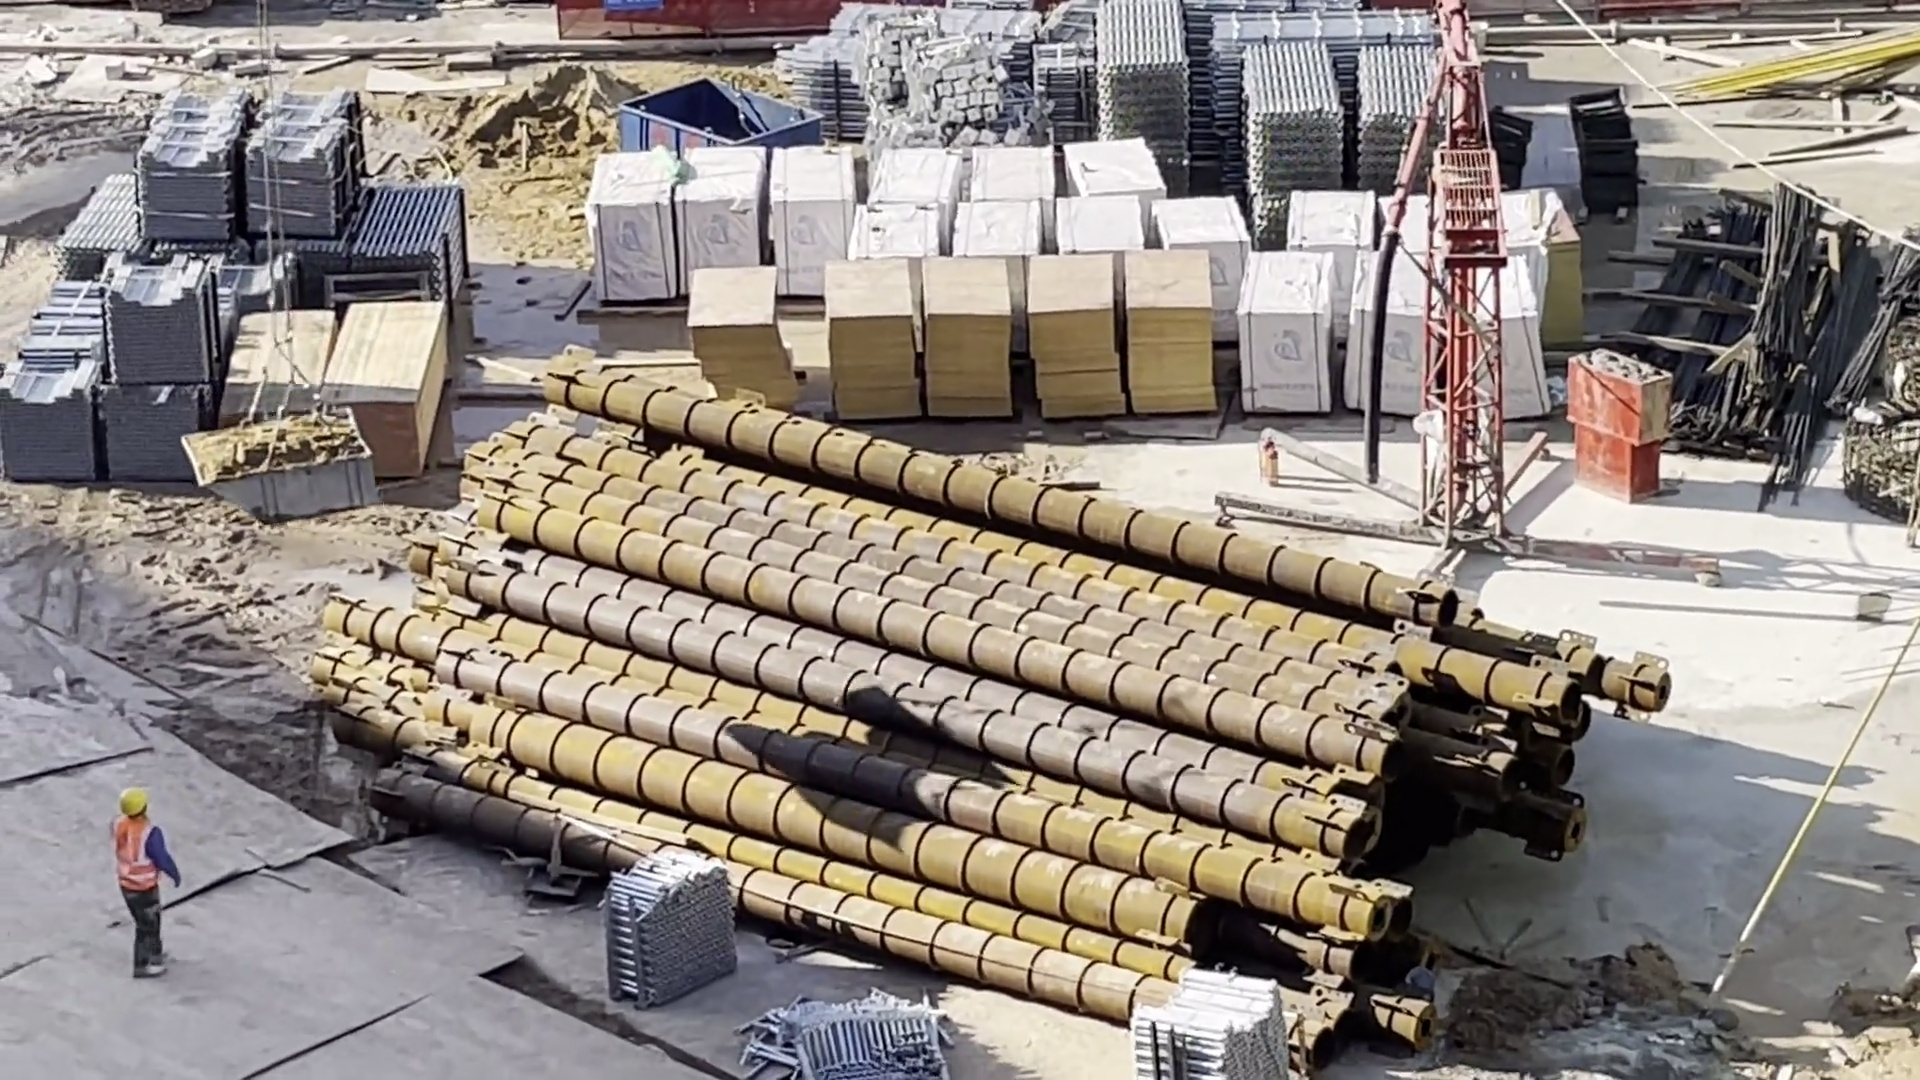board: (1120, 243, 1215, 432), (814, 271, 914, 423), (933, 261, 1017, 427), (351, 305, 429, 464), (694, 275, 779, 412), (1029, 255, 1097, 412)
fence: (554, 3, 830, 41)
helmet: (115, 791, 145, 813)
hopper: (182, 422, 350, 510), (620, 91, 817, 148)
person: (113, 787, 179, 981)
rebar: (1775, 252, 1869, 468), (1664, 227, 1755, 419), (1626, 215, 1703, 382), (1847, 242, 1917, 408), (1735, 209, 1804, 367)
scaffold: (768, 996, 980, 1079), (1139, 984, 1304, 1080), (609, 873, 732, 996), (1096, 9, 1189, 145), (1239, 51, 1339, 176), (370, 197, 471, 288), (1225, 11, 1437, 53), (1367, 64, 1437, 172), (60, 192, 129, 278), (1036, 55, 1089, 123)
vest: (108, 827, 159, 899)
